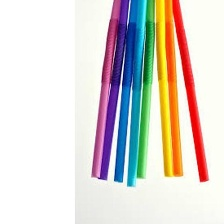drinking_straw: (169, 0, 214, 185), (87, 0, 123, 182), (133, 0, 157, 182)
